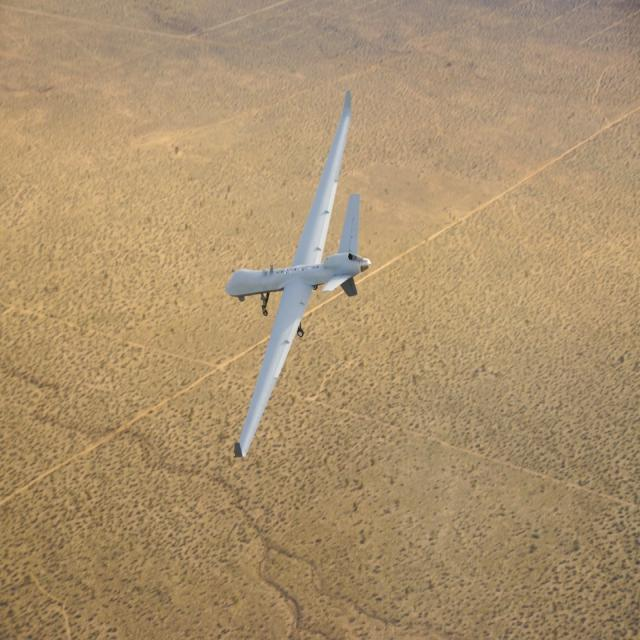MIL_Plane: (216, 89, 372, 458)
